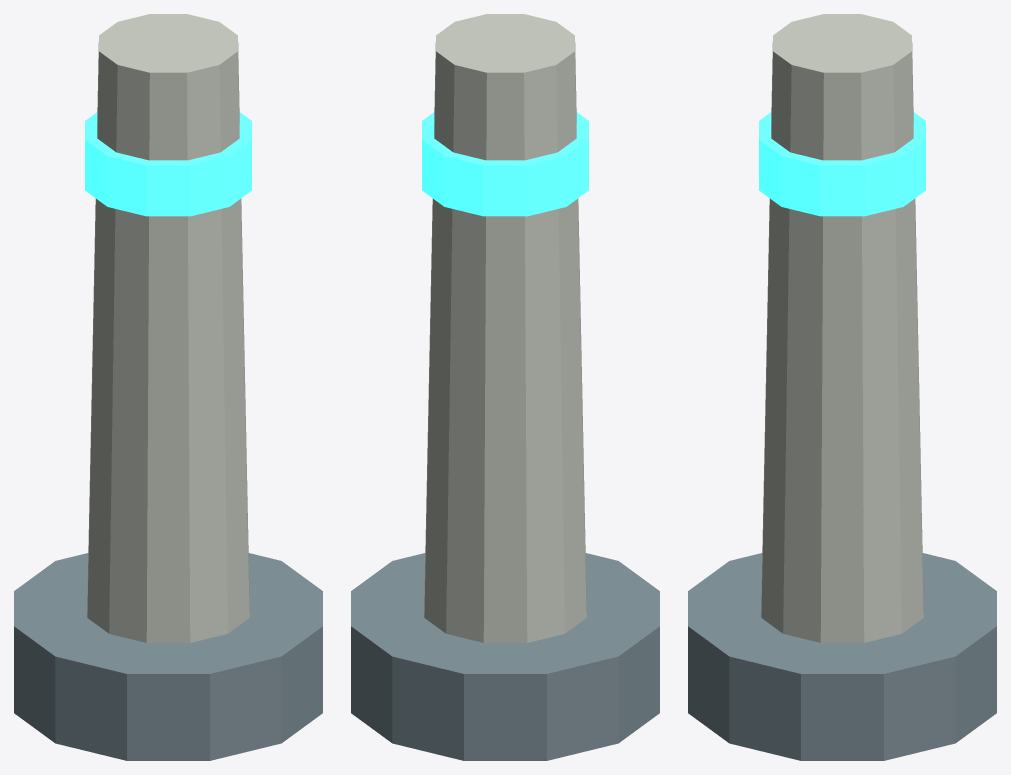
File: City_Bollard.glb
3 renders of one model, left to right at view 1: azimuth 30°, elevation 25°; view 2: azimuth 150°, elevation 25°; view 3: azimuth 270°, elevation 25°, orthographic.
Visible parts, largest first — view 1: City_Bollard_Post, City_Bollard_Base; view 2: City_Bollard_Post, City_Bollard_Base; view 3: City_Bollard_Post, City_Bollard_Base.
Boxes of the visible parts, x1,y1,x2,y2 form: City_Bollard_Post: (85,14,251,642); City_Bollard_Base: (14,553,322,760); City_Bollard_Post: (422,14,588,642); City_Bollard_Base: (351,553,659,760); City_Bollard_Post: (759,14,925,642); City_Bollard_Base: (688,553,996,760).
Size of the model in its own units: 0.3864 by 0.9 by 0.3864.
